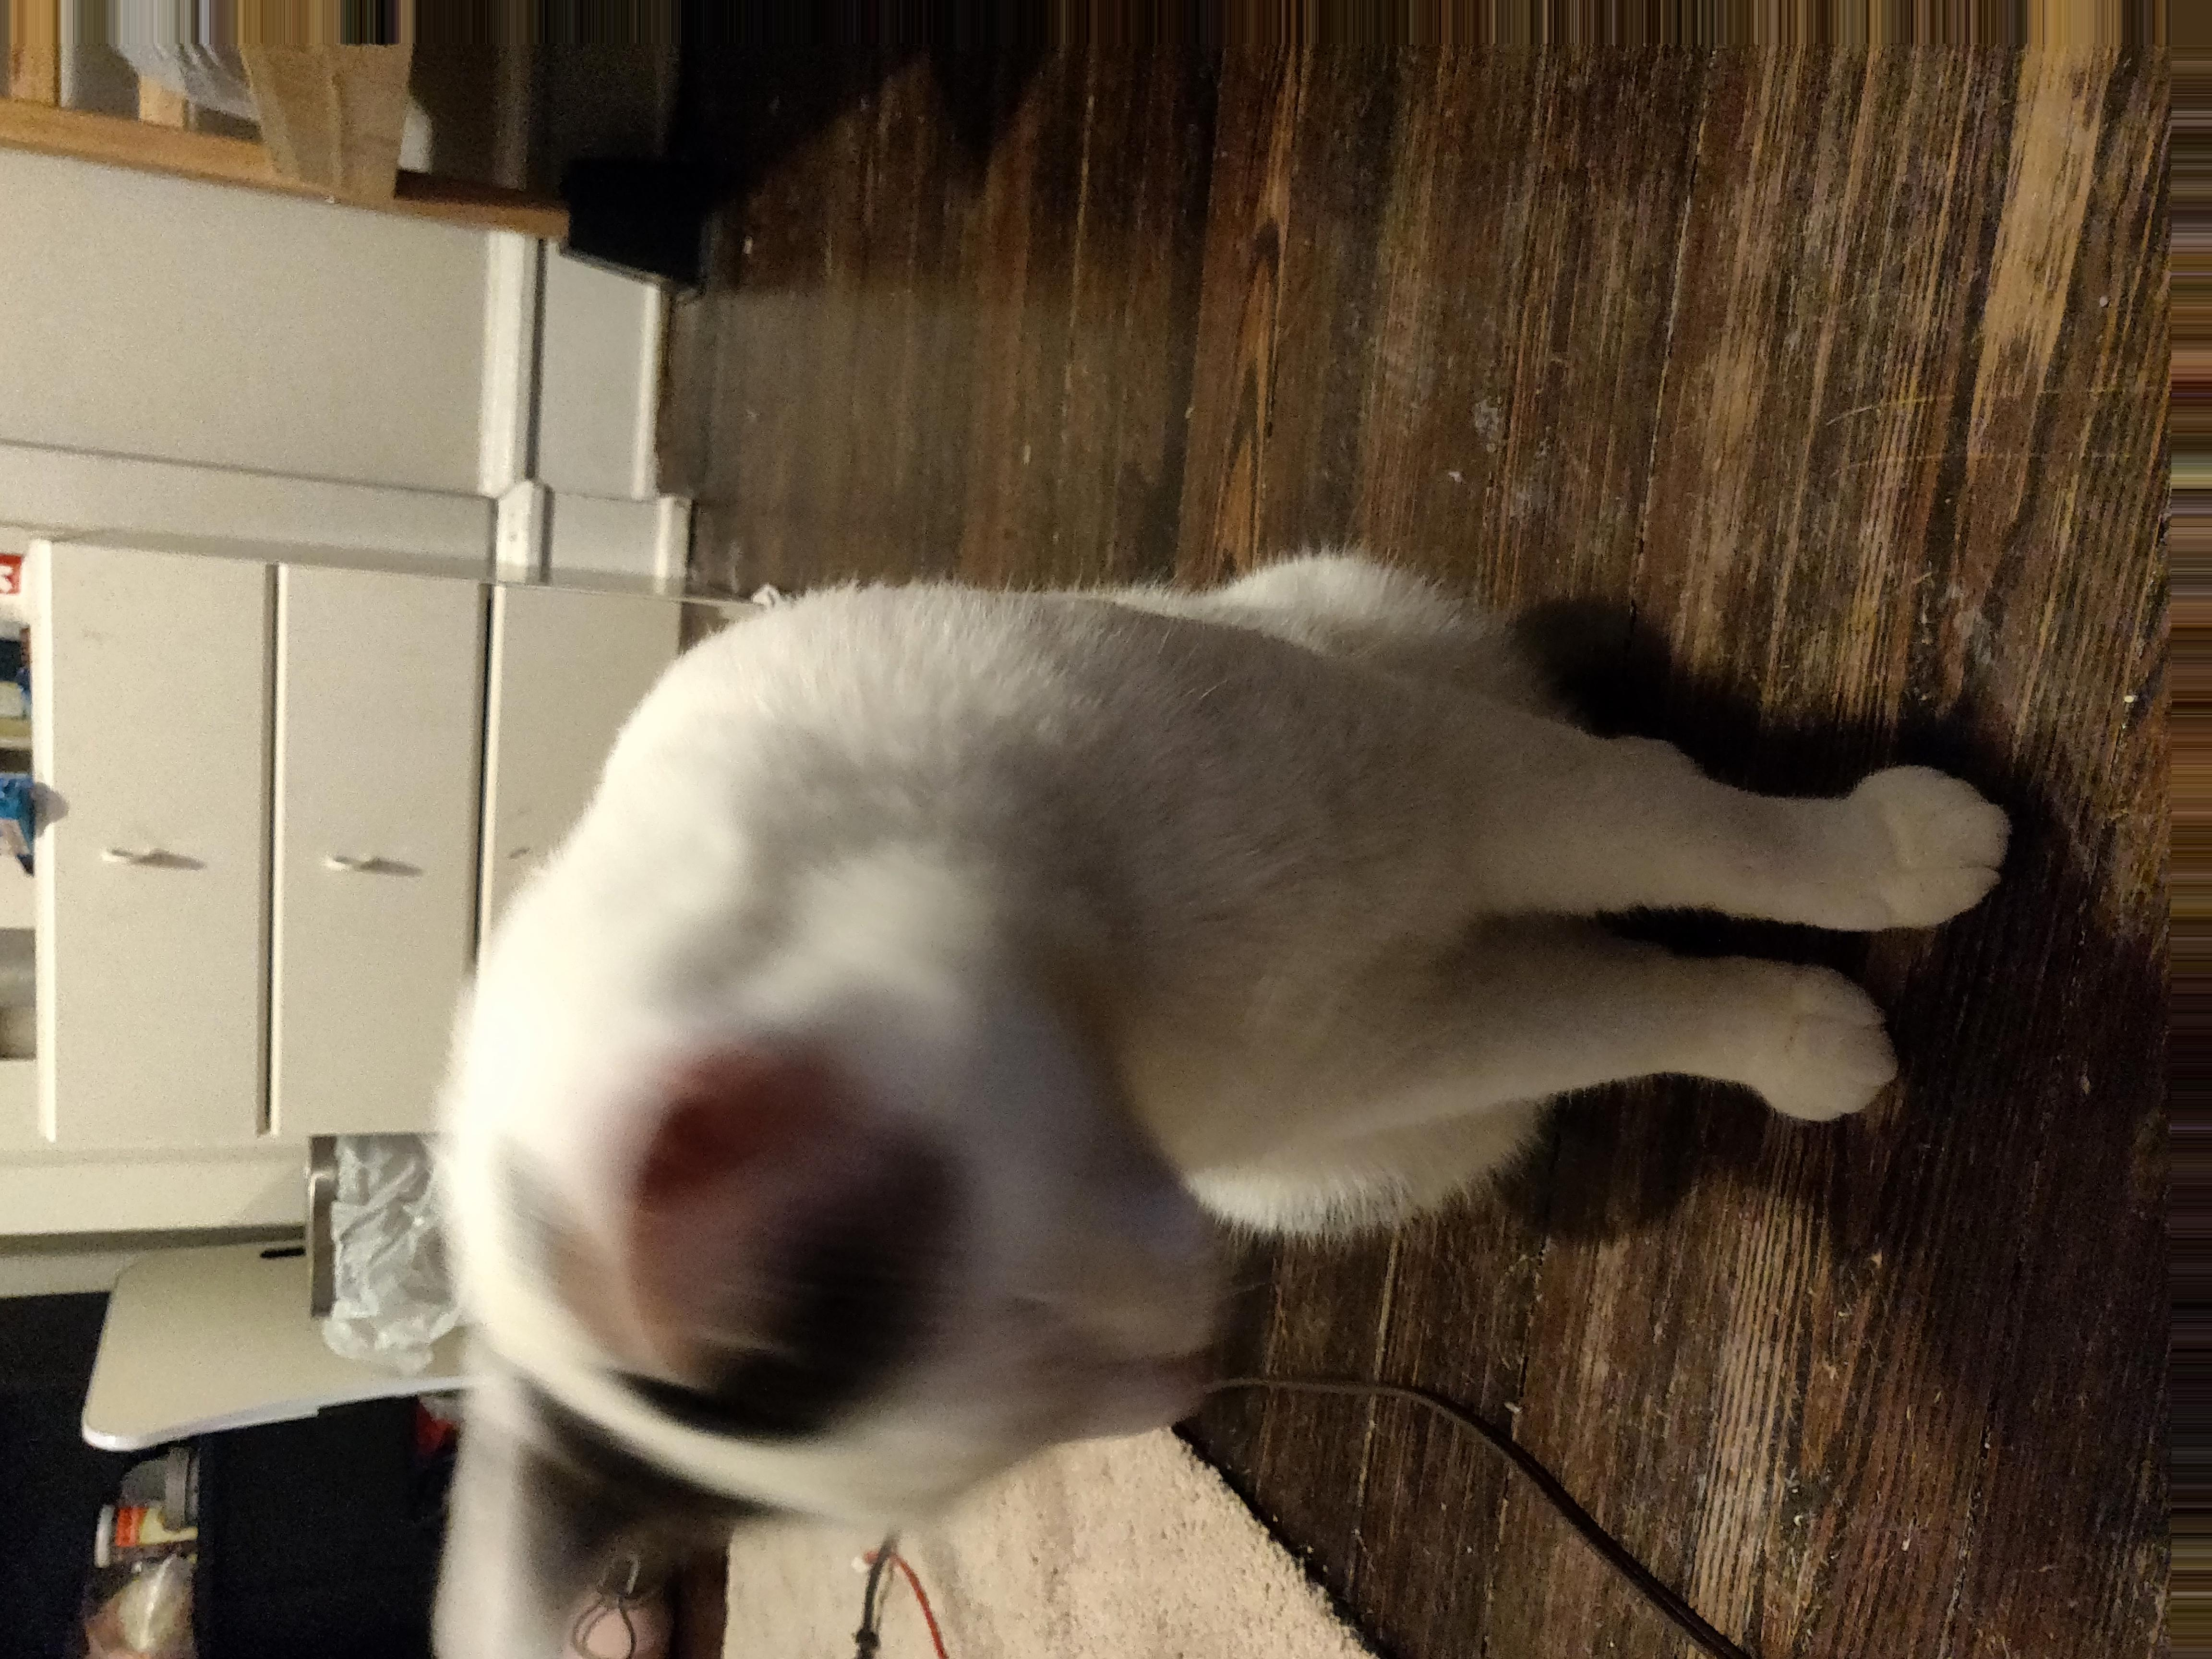cat: (432, 570, 2024, 1652)
